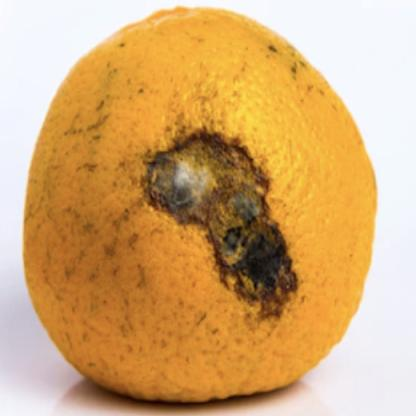rotten: (24, 4, 378, 404)
